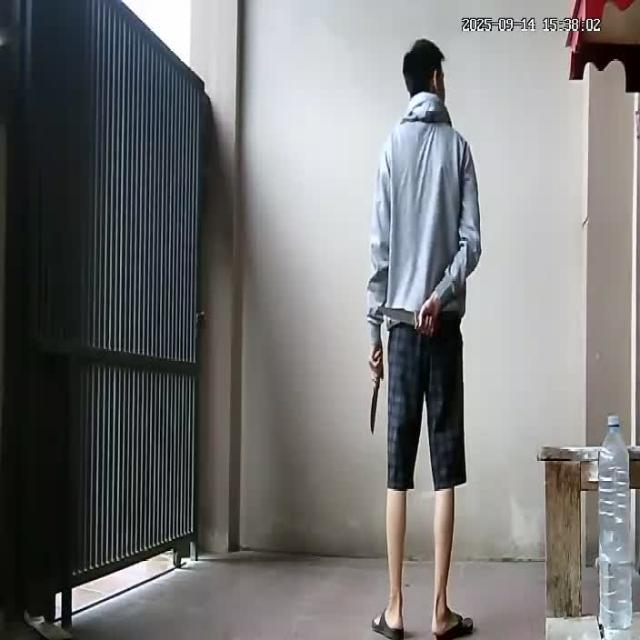senjata_tajam: (370, 375, 382, 437)
